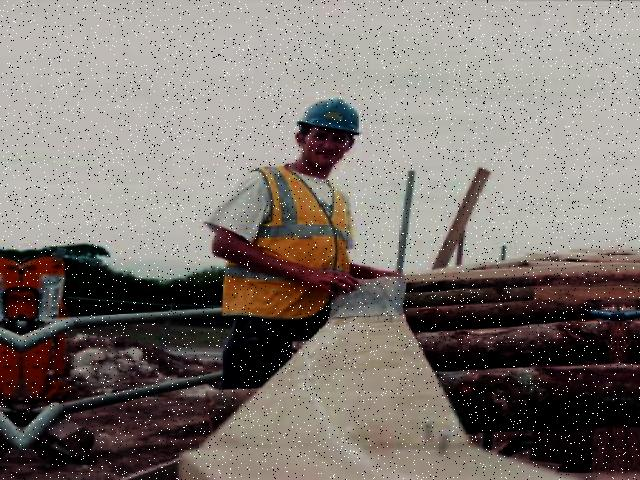Helmet: (291, 93, 371, 144)
